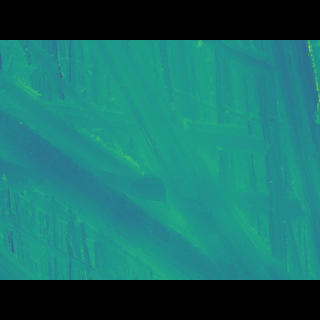Loch: (0, 96, 292, 250), (16, 69, 161, 177)
